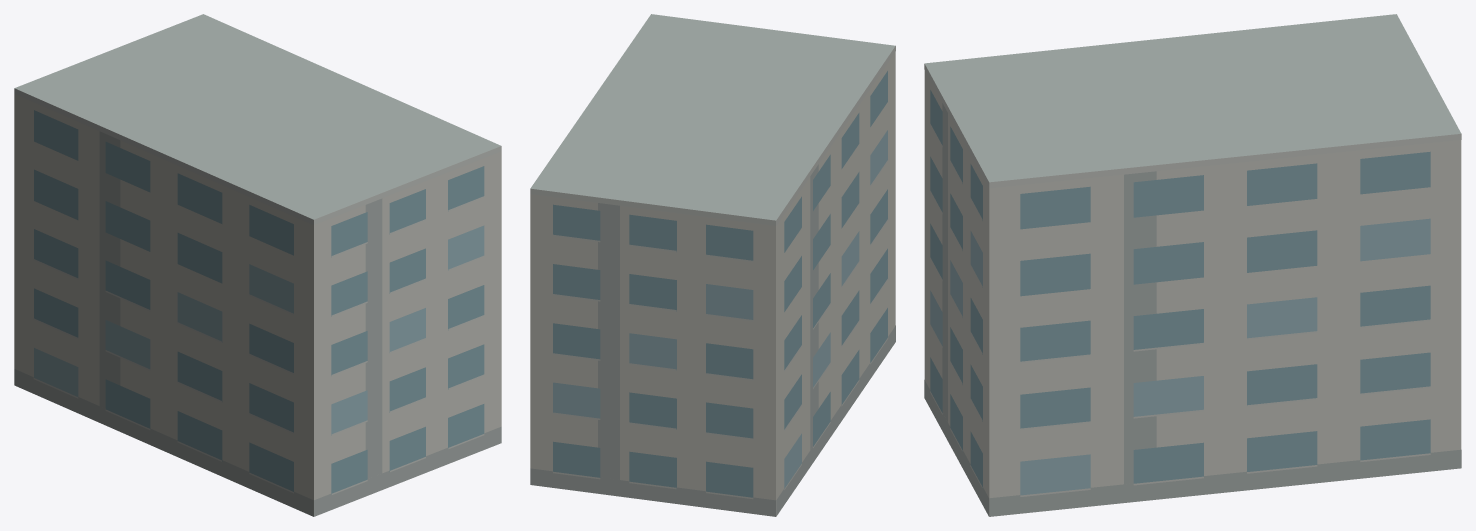
File: survey-upis-32652191.glb
3 views of the same model, side by side, from view 1: azimuth 30°, elevation 25°; view 2: azimuth 150°, elevation 25°; view 3: azimuth 270°, elevation 25° (orthographic). The views are drawn at different scales.
Parts seen in each view (by area): view 1: survey-upis-32652191.tmp; view 2: survey-upis-32652191.tmp; view 3: survey-upis-32652191.tmp.
Boxes of the visible parts, x1,y1,x2,y2 form: survey-upis-32652191.tmp: [14, 14, 501, 516]; survey-upis-32652191.tmp: [530, 14, 895, 516]; survey-upis-32652191.tmp: [924, 14, 1461, 516].
Bounding box in the file's own units: 14.25 × 13.2 × 19.21.
